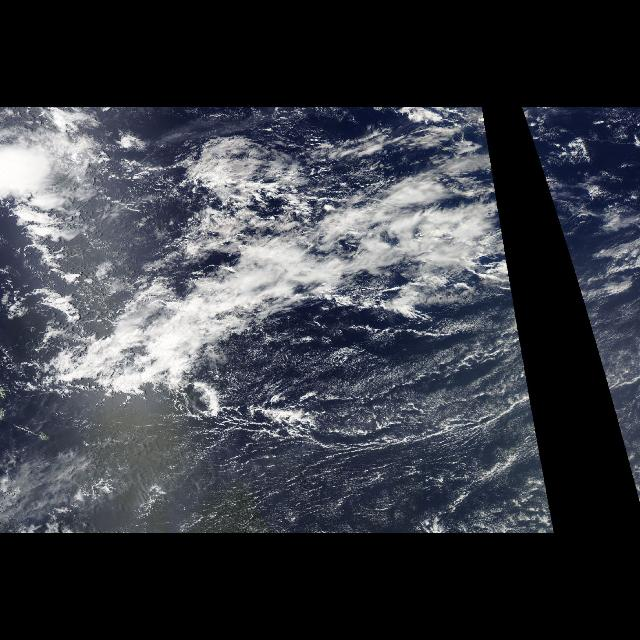Fish: (39, 170, 540, 464), (608, 384, 622, 448)
Sugar: (25, 338, 555, 534)
